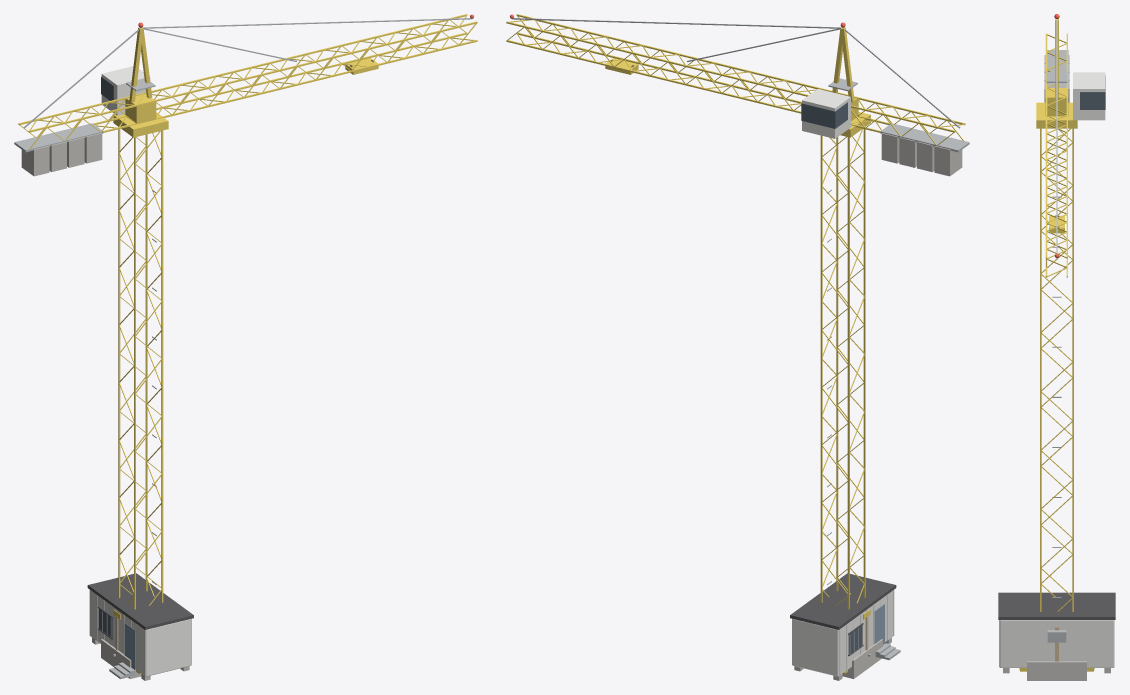
Rendered from site_kit.glb.
The picture shows the model from 3 angles, left to right: view 1: azimuth 30°, elevation 25°; view 2: azimuth 150°, elevation 25°; view 3: azimuth 270°, elevation 25°; orthographic projection. The views are drawn at different scales.
Visible parts, largest first — view 1: os_crane_mesh, os_office_mesh; view 2: os_crane_mesh, os_office_mesh; view 3: os_crane_mesh, os_office_mesh.
Part boxes in pixels (<box>): os_crane_mesh: <box>14,14,477,678</box>; os_office_mesh: <box>87,573,193,680</box>; os_crane_mesh: <box>506,14,969,678</box>; os_office_mesh: <box>790,573,900,680</box>; os_crane_mesh: <box>1027,14,1105,680</box>; os_office_mesh: <box>998,592,1115,673</box>.
Size of the model in its own units: 23.3 by 31.37 by 5.1.
